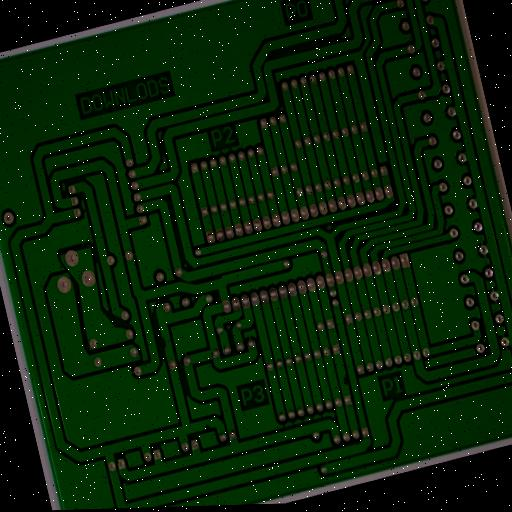mouse_bite: (159, 335, 171, 352), (200, 420, 214, 433), (341, 372, 353, 387)
